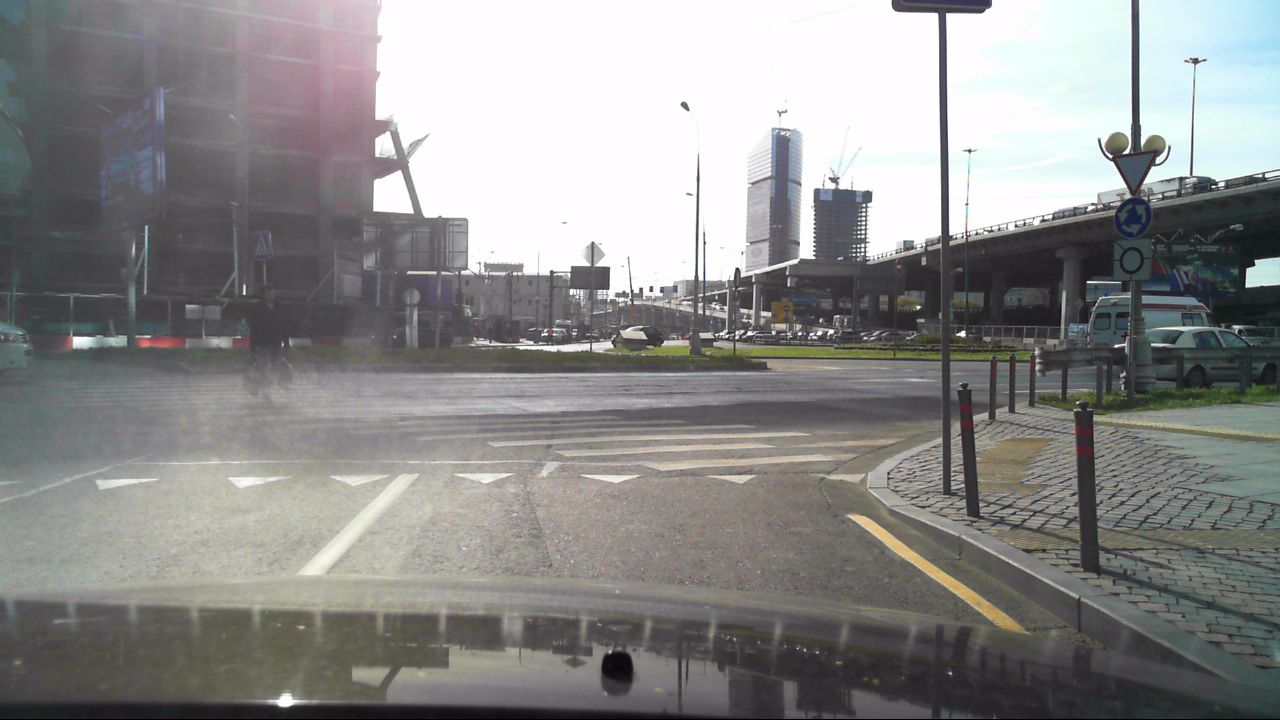Round-About: (1113, 196, 1153, 239)
